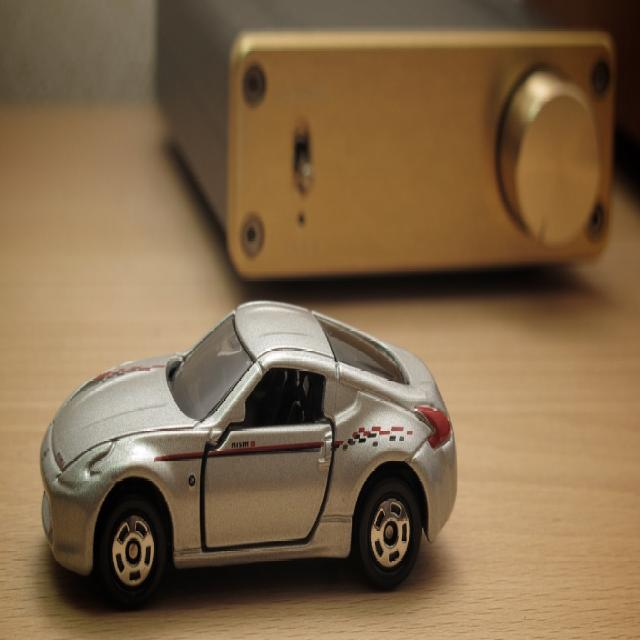car: (38, 295, 456, 587)
